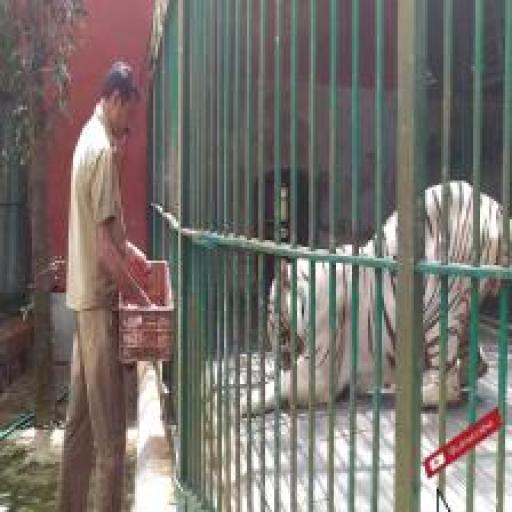Tiger: (233, 174, 512, 407)
